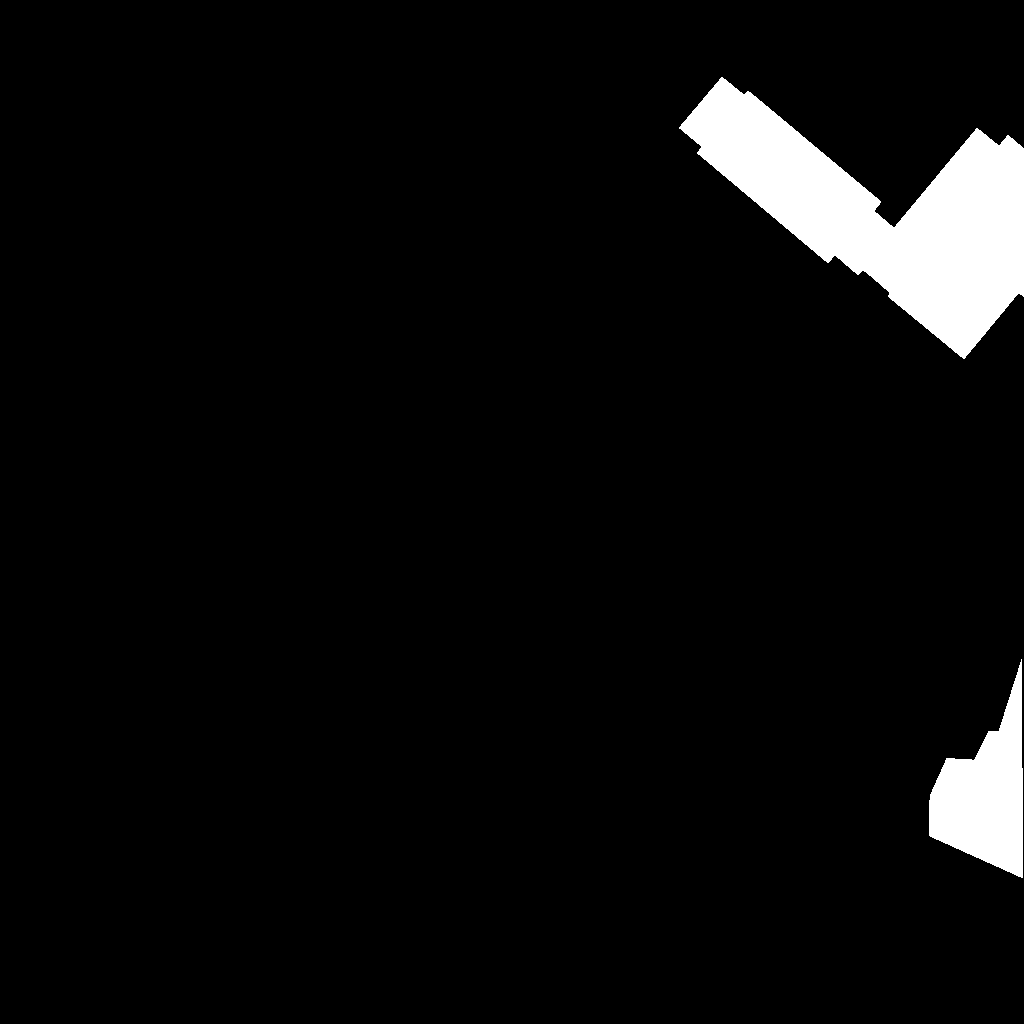building: (679, 77, 1024, 360), (929, 658, 1024, 879)
